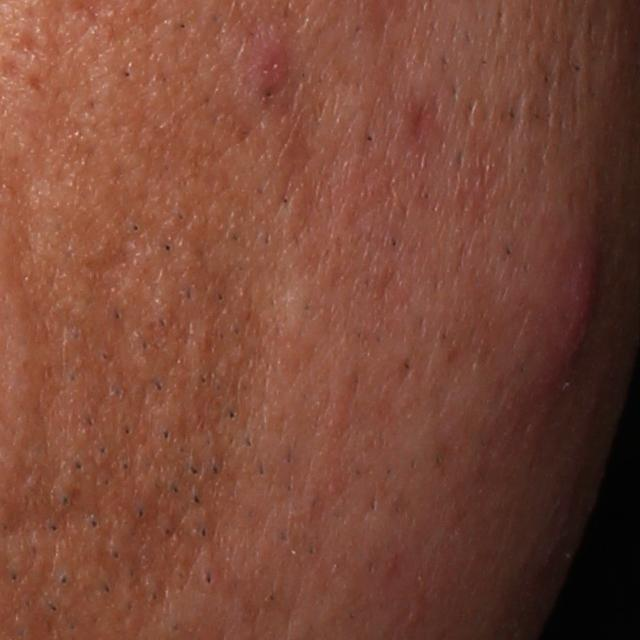papule: (243, 32, 302, 111)
